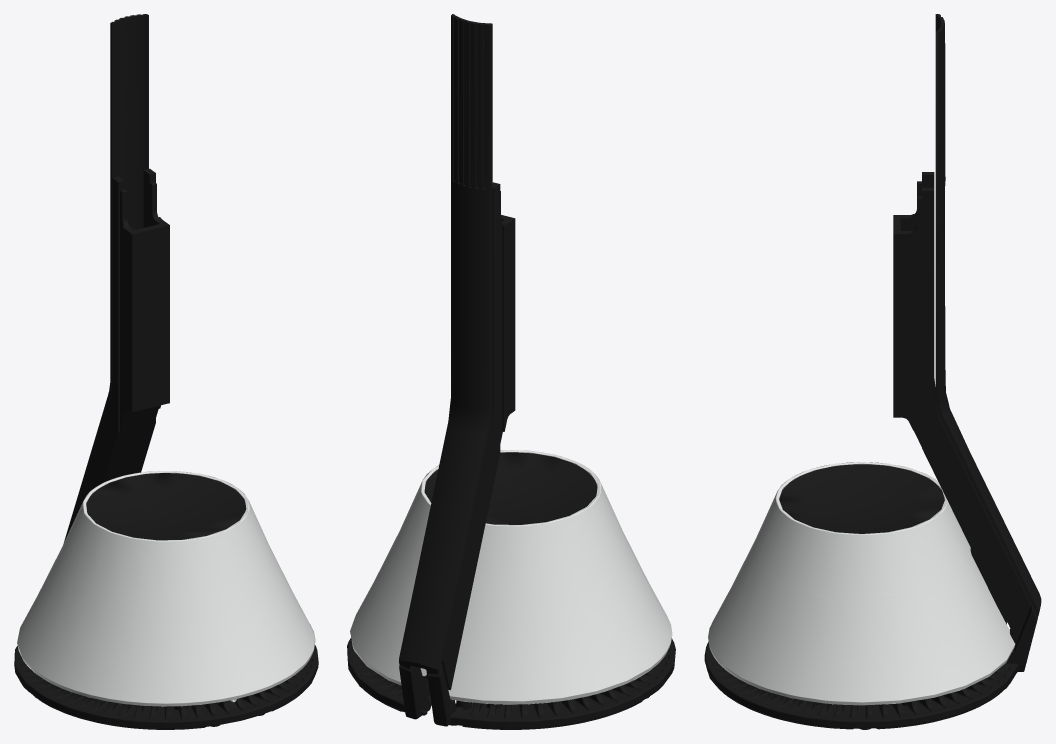
The model's file is Beolab-28-Base.glb.
3 renders of one model, left to right at view 1: azimuth 30°, elevation 25°; view 2: azimuth 150°, elevation 25°; view 3: azimuth 270°, elevation 25°, orthographic. The views are drawn at different scales.
Parts seen in each view (by area): view 1: 28_n3d, 12_n3d; view 2: 12_n3d, 28_n3d; view 3: 28_n3d, 12_n3d.
Boxes of the visible parts, x1,y1,x2,y2 form: 28_n3d: [17, 471, 315, 706]; 12_n3d: [14, 14, 318, 729]; 12_n3d: [347, 14, 675, 729]; 28_n3d: [350, 450, 672, 704]; 28_n3d: [708, 462, 1015, 705]; 12_n3d: [704, 14, 1041, 729].
Bounding box in the file's own units: 2.52 × 5.68 × 2.7.
4 materials, 2 textured.
